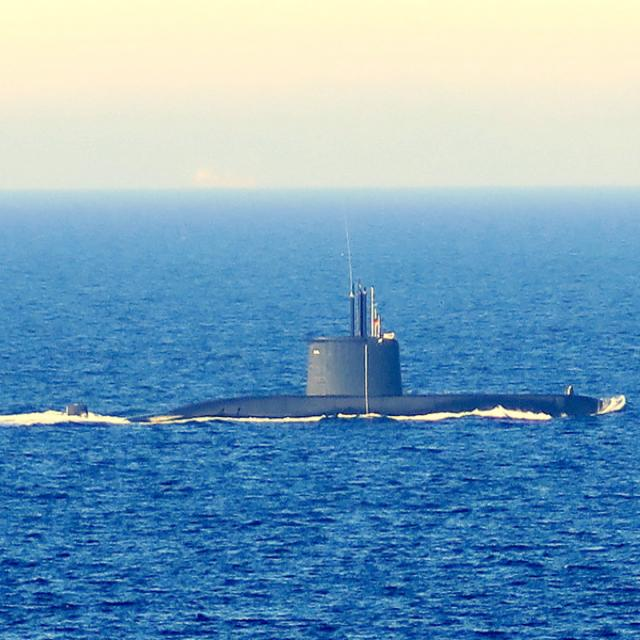submarine: (36, 284, 611, 412)
